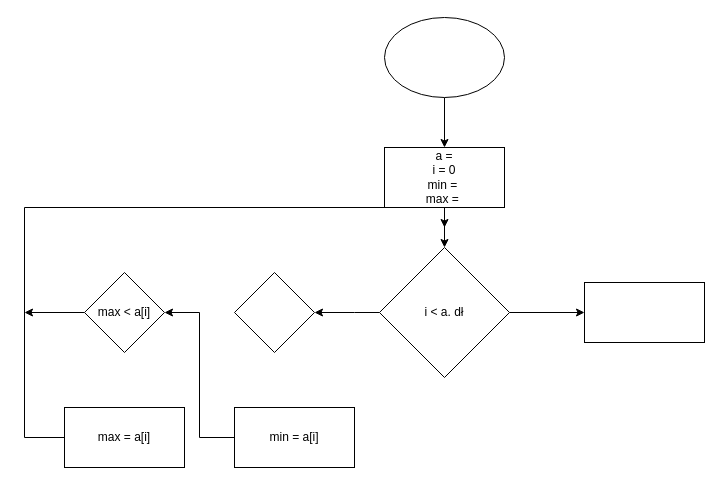
This 722x485 diagram has some shape labels left out. Each missing label, with the centre of its shape:
min < a[i]: the point at 274,312
min = a[i] max = a[i]: the point at 644,312
start: the point at 444,57
